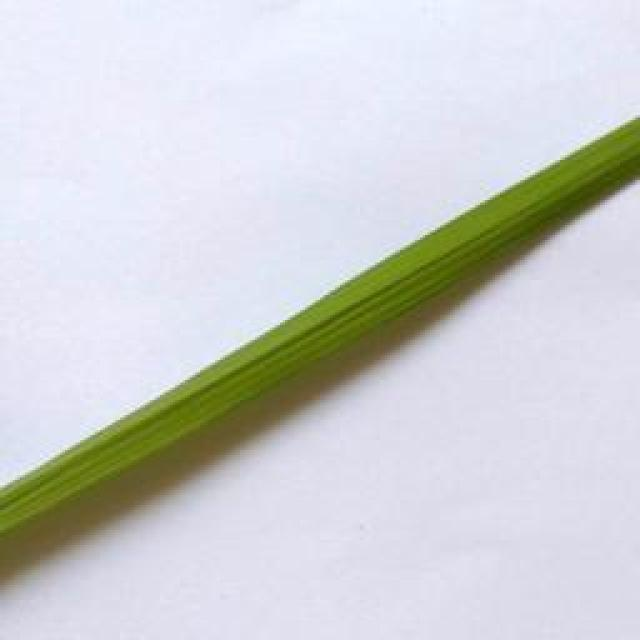Healthy-Plant: (0, 111, 632, 540)
